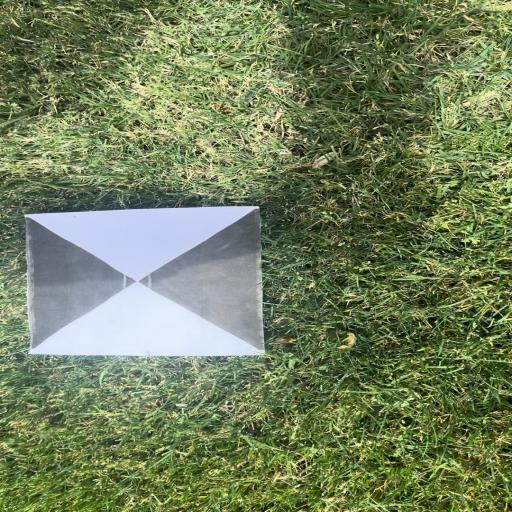target: (25, 213, 267, 355)
